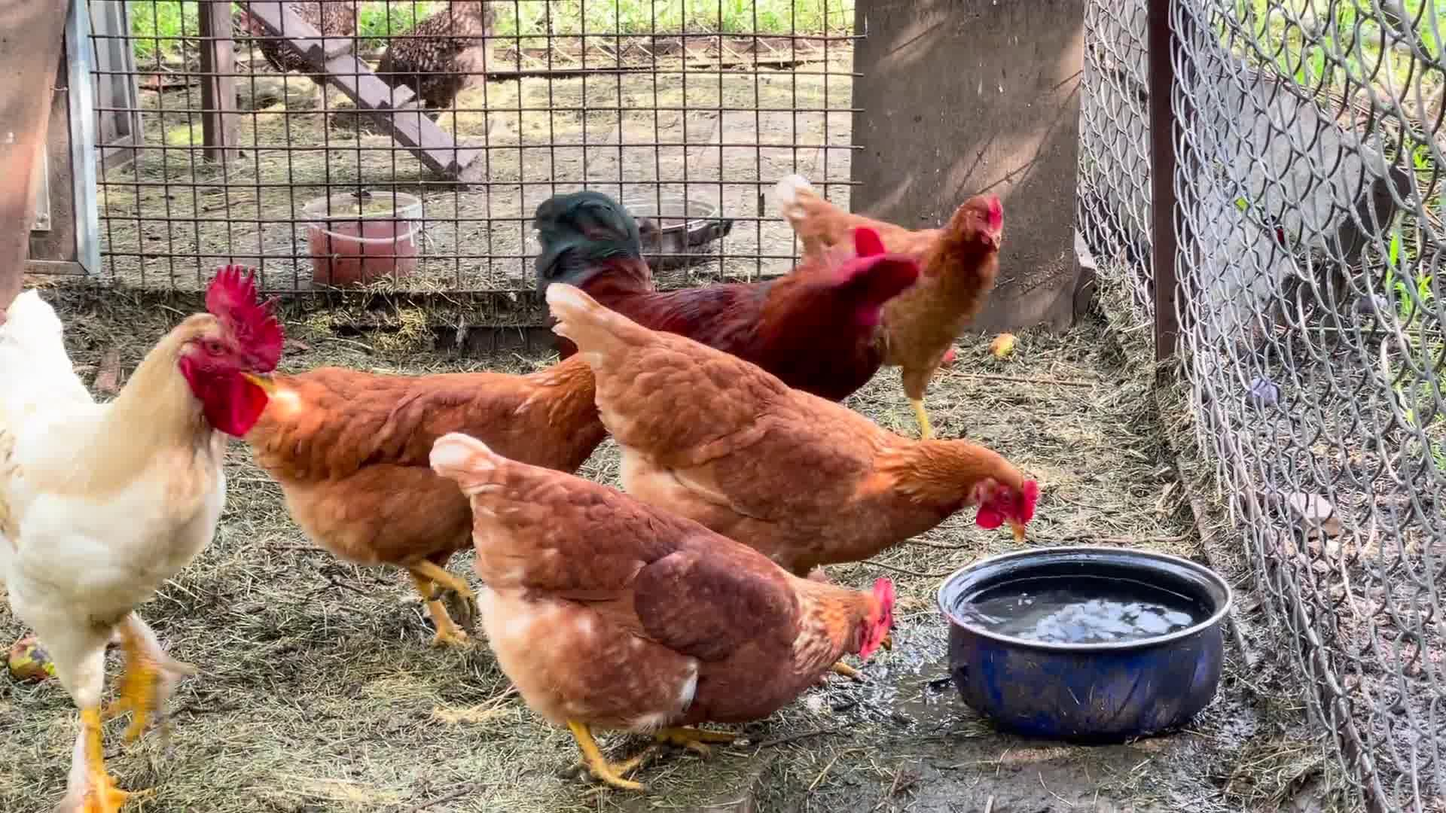Normal: (433, 443, 899, 791), (4, 275, 302, 809), (543, 283, 1031, 568), (270, 367, 581, 657), (545, 200, 936, 398), (780, 177, 1015, 441)
